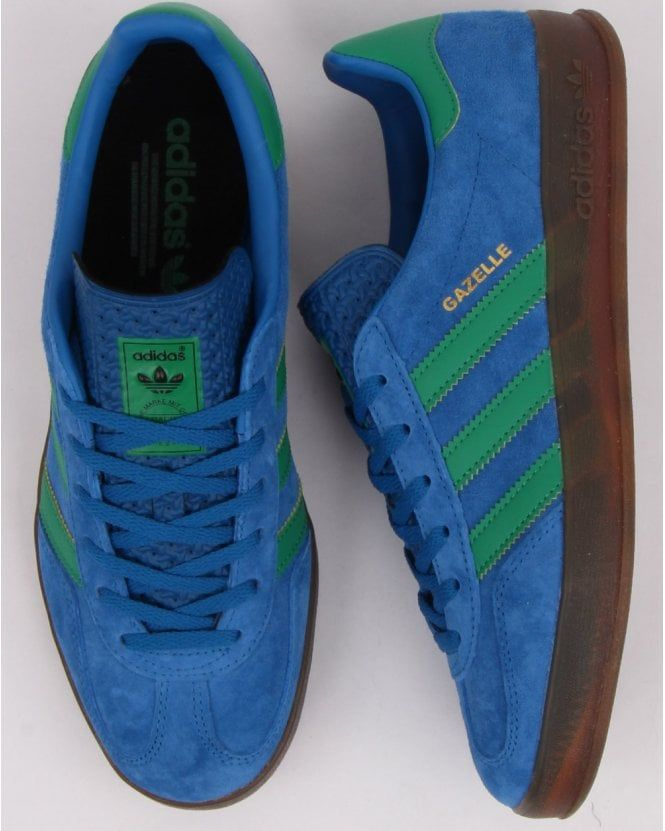gamuza: (39, 10, 565, 808)
